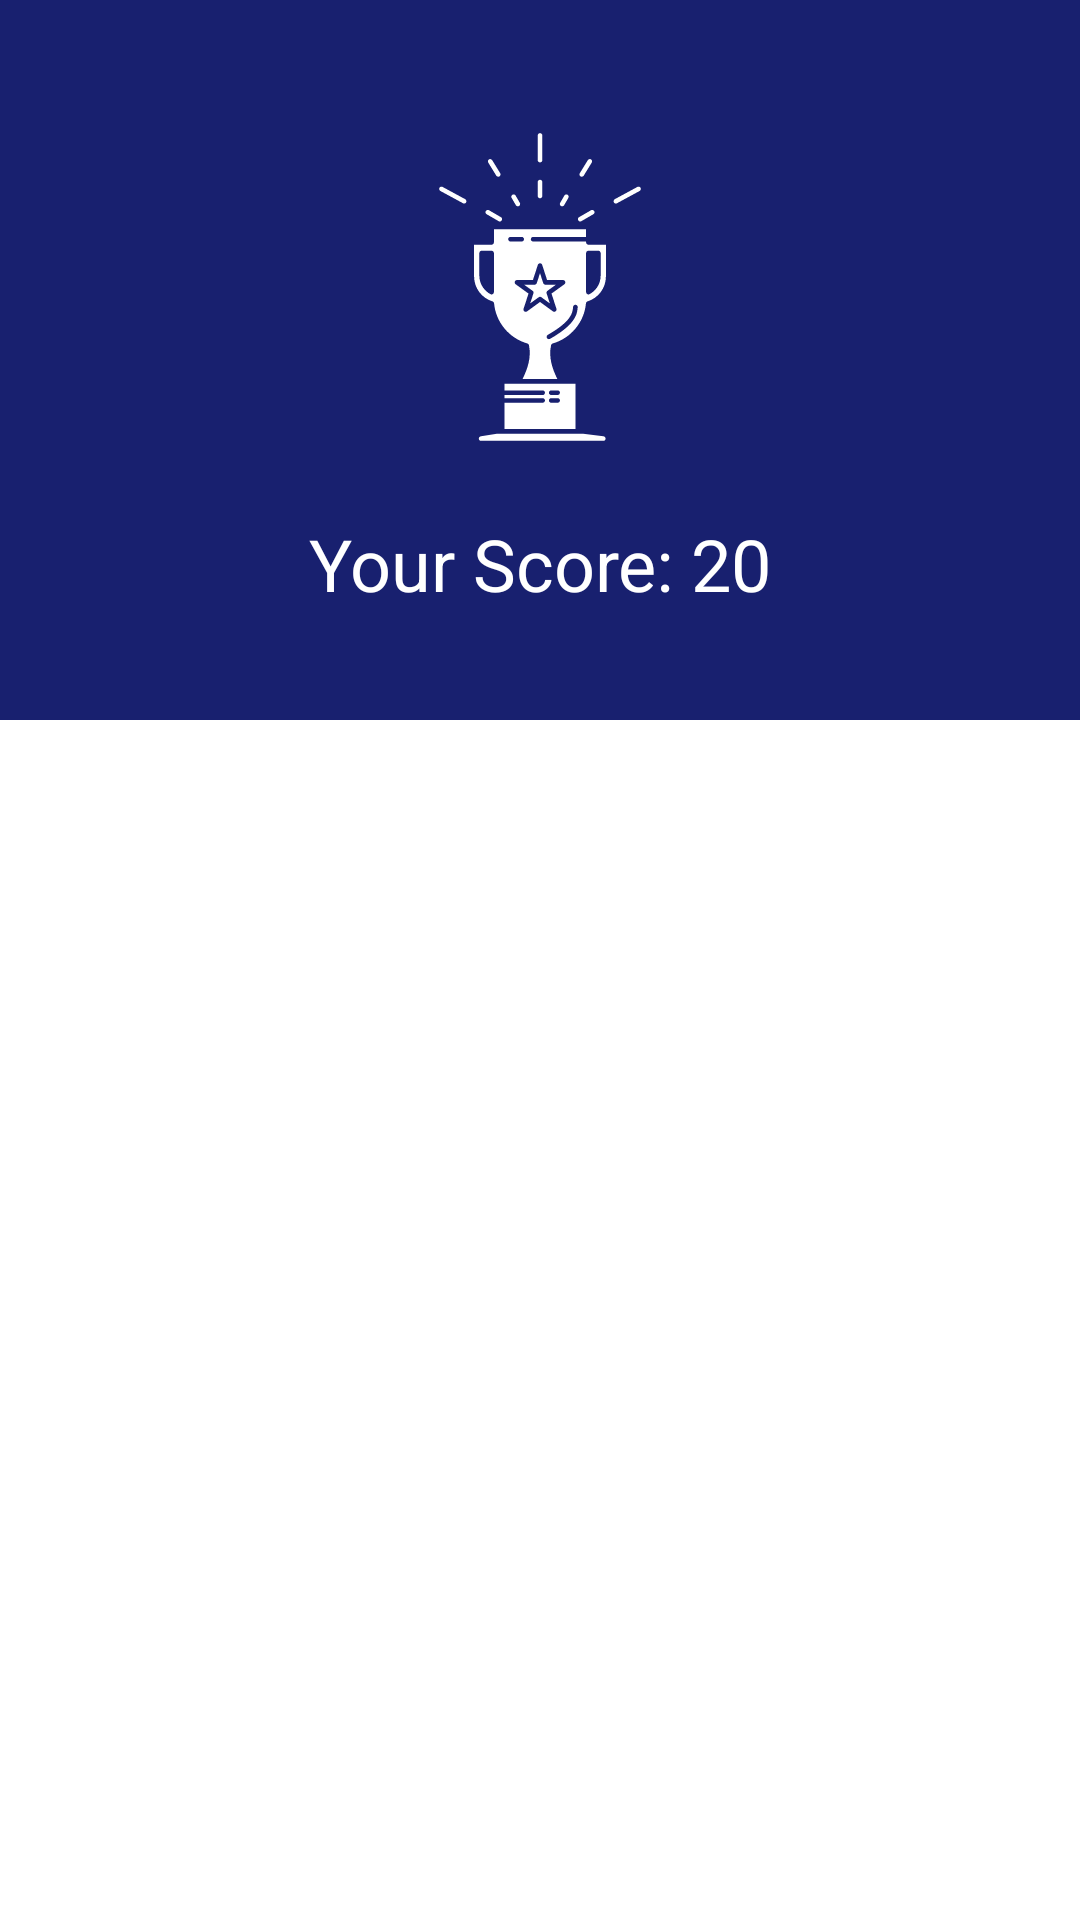

Icons on this 1080 x 1920 Android screen, each with its box as (x1, y1, x2, y2):
trofy: (439, 133, 641, 441)
